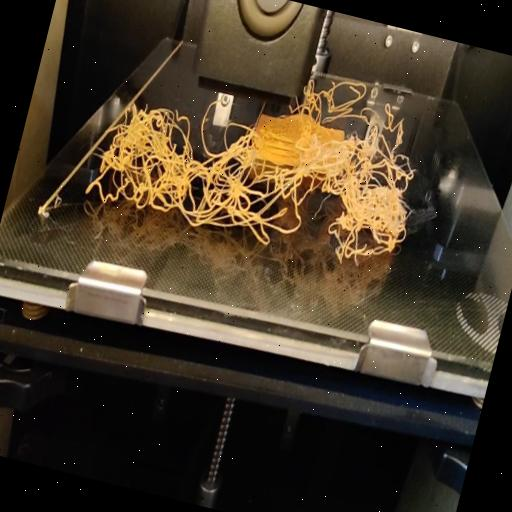spaghetti: (82, 66, 434, 274), (299, 62, 414, 140)
